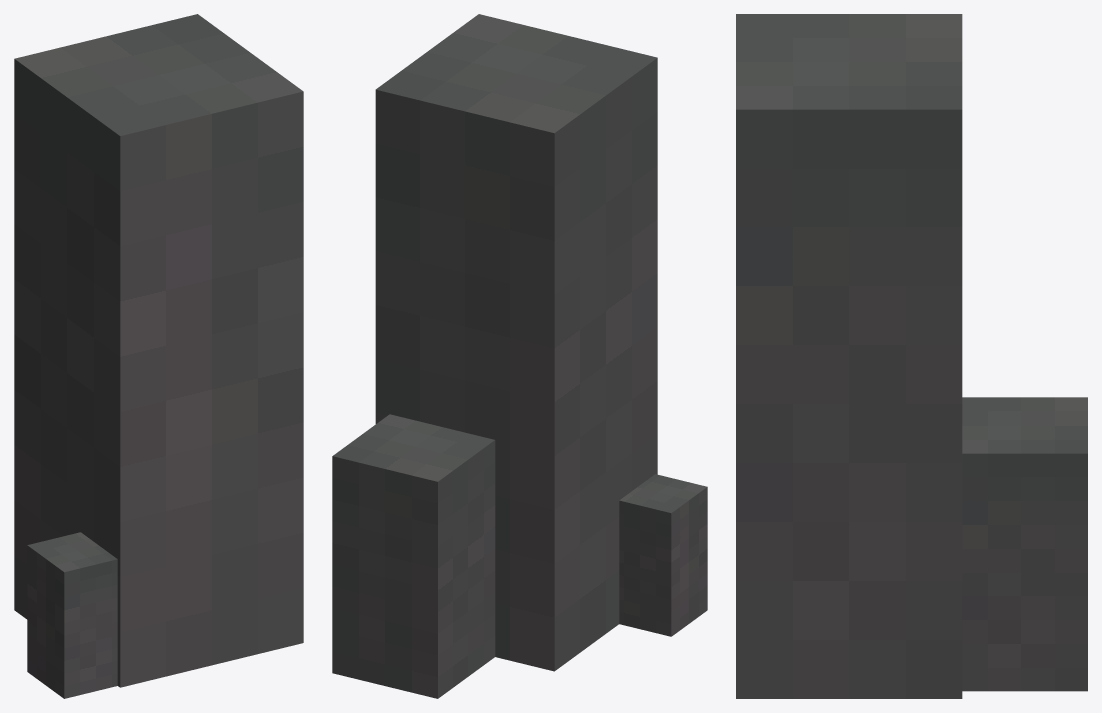
File: pyrolusite_crystal_three.obj
The picture shows the model from 3 angles, left to right: view 1: azimuth 30°, elevation 25°; view 2: azimuth 150°, elevation 25°; view 3: azimuth 270°, elevation 25°; orthographic projection. The views are drawn at different scales.
Parts seen in each view (by area): view 1: Crystal5_Cube.008; view 2: Crystal5_Cube.008; view 3: Crystal5_Cube.008.
Part boxes in pixels (x1,y1,x2,y2): Crystal5_Cube.008: (14, 14, 303, 698); Crystal5_Cube.008: (332, 14, 707, 698); Crystal5_Cube.008: (736, 14, 1087, 698).
Bounding box in the file's own units: 0.1959 × 0.4361 × 0.2358.
